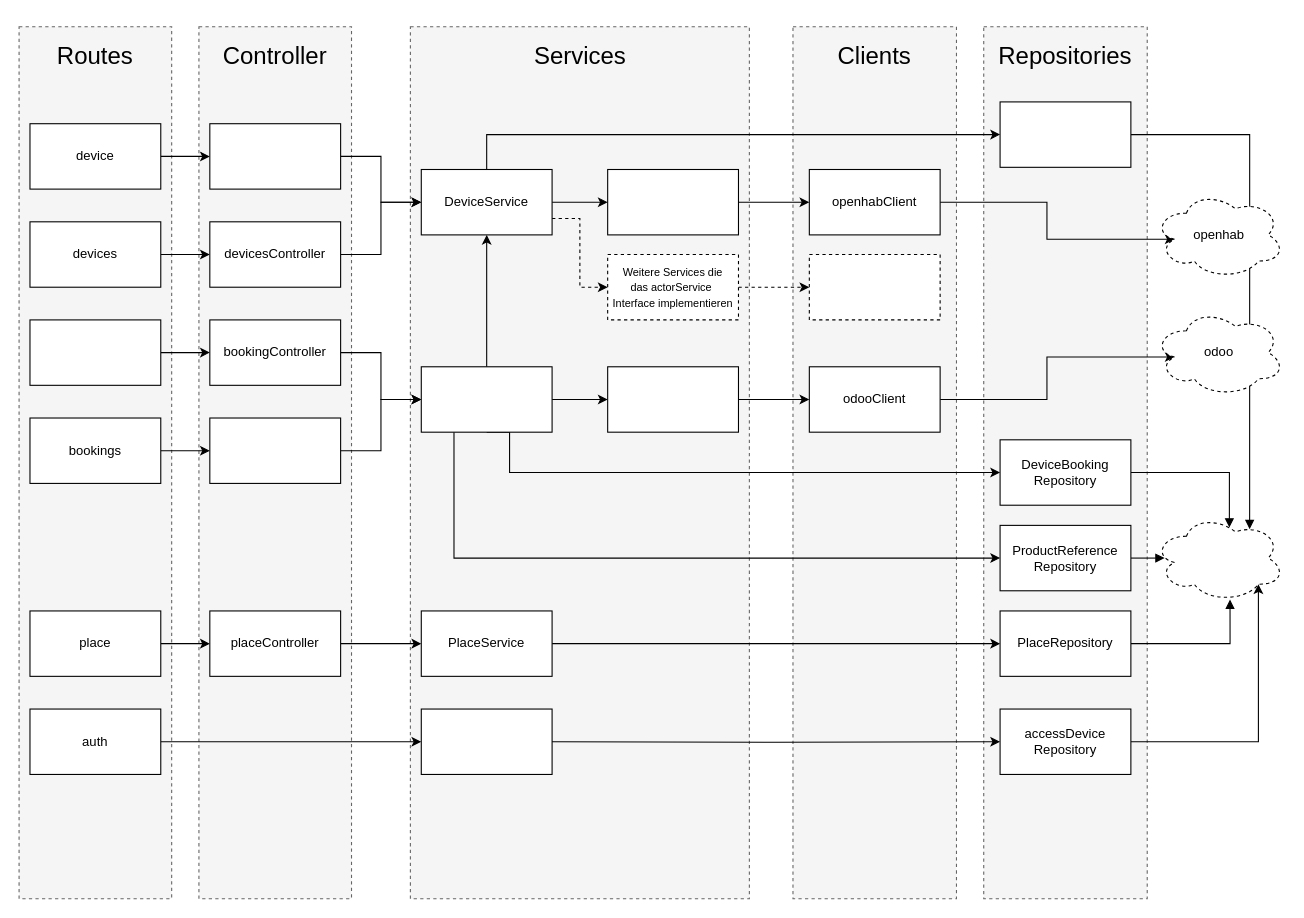
The diagram is 1304 pixels wide and 918 high, and some of its shapes have lost their labels. Here are the shapes that lost their labels. From the top down, the box of each, then its label:
(999, 101, 1131, 167): DeviceRepository
(209, 123, 341, 189): deviceController
(607, 168, 738, 235): OpenhabService implementiert das actorService (Interface)
(808, 253, 940, 320): Client für andere Automationsplattform
(29, 319, 161, 385): booking
(420, 366, 552, 432): DeviceBooking Service
(607, 366, 738, 432): UserService
(209, 417, 341, 483): bookingsController
(1153, 513, 1285, 602): MongoDB
(420, 708, 552, 774): accessDevice Service
